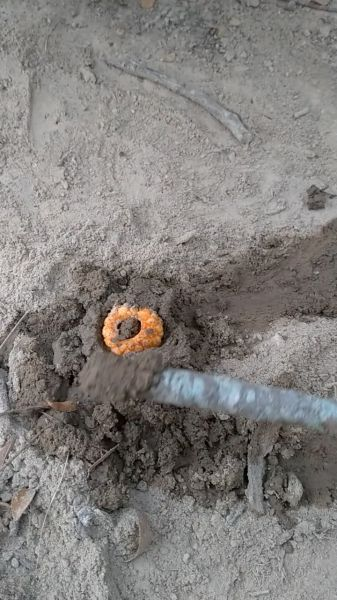eggs: (99, 303, 168, 360)
